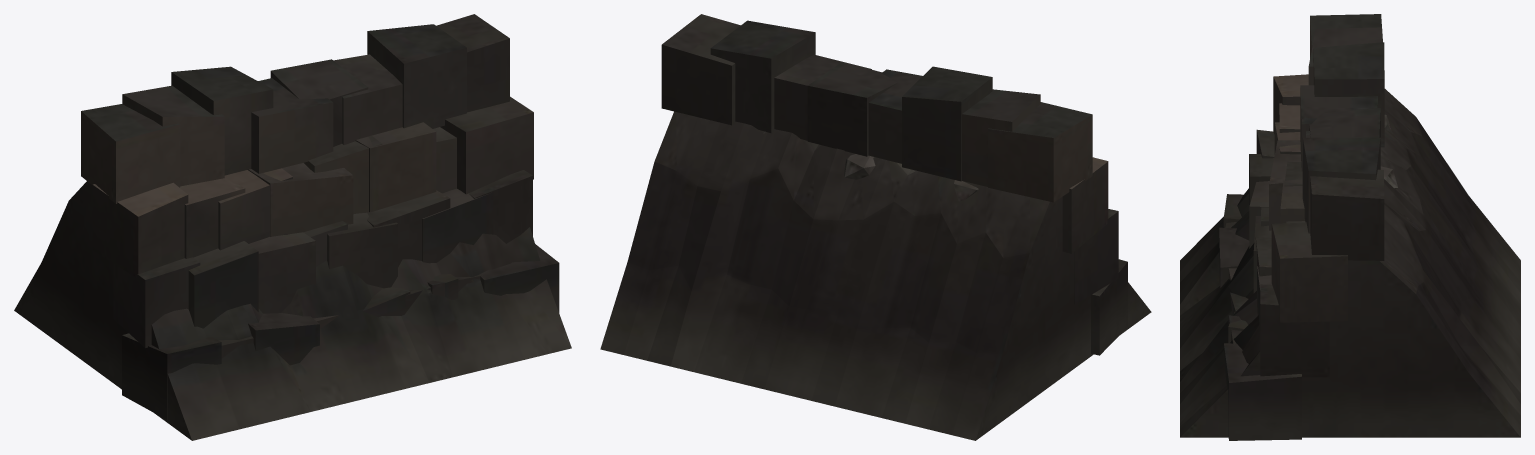
Rendered from cliff-vulcanus-sides.glb.
The picture shows the model from 3 angles, left to right: view 1: azimuth 30°, elevation 25°; view 2: azimuth 150°, elevation 25°; view 3: azimuth 270°, elevation 25°; orthographic projection. The views are drawn at different scales.
Visible parts, largest first — view 1: cliff-vulcanus-sides; view 2: cliff-vulcanus-sides; view 3: cliff-vulcanus-sides.
Boxes of the visible parts, left/top/right/bottom form: cliff-vulcanus-sides: left=14, top=14, right=571, bottom=440; cliff-vulcanus-sides: left=600, top=14, right=1151, bottom=440; cliff-vulcanus-sides: left=1180, top=14, right=1520, bottom=440.
Bounding box in the file's own units: 4.25 × 2.72 × 3.25.
2 materials, 2 textured.
